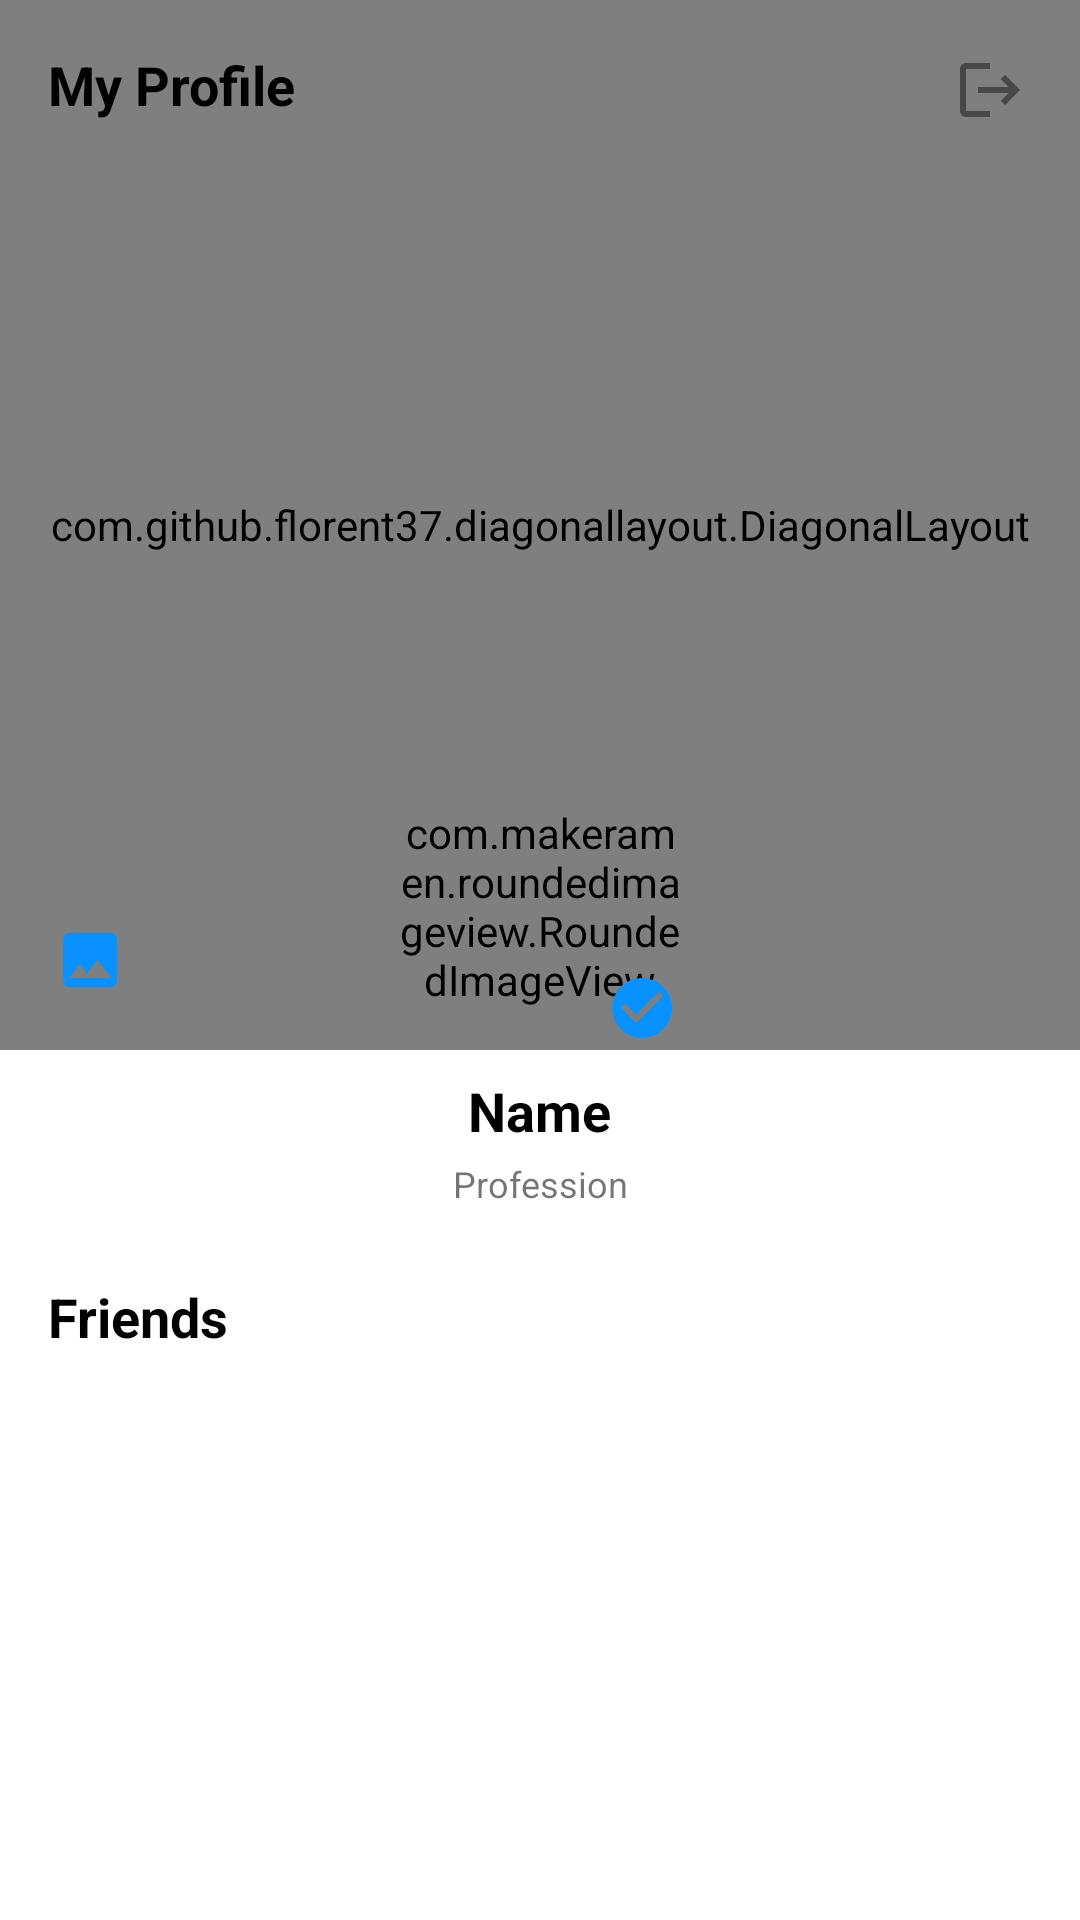

Locate icon controls on the screen. Image size 1080x1920, boxes as rect(x1, y1, x2, y2).
check: rect(606, 973, 672, 1038)
